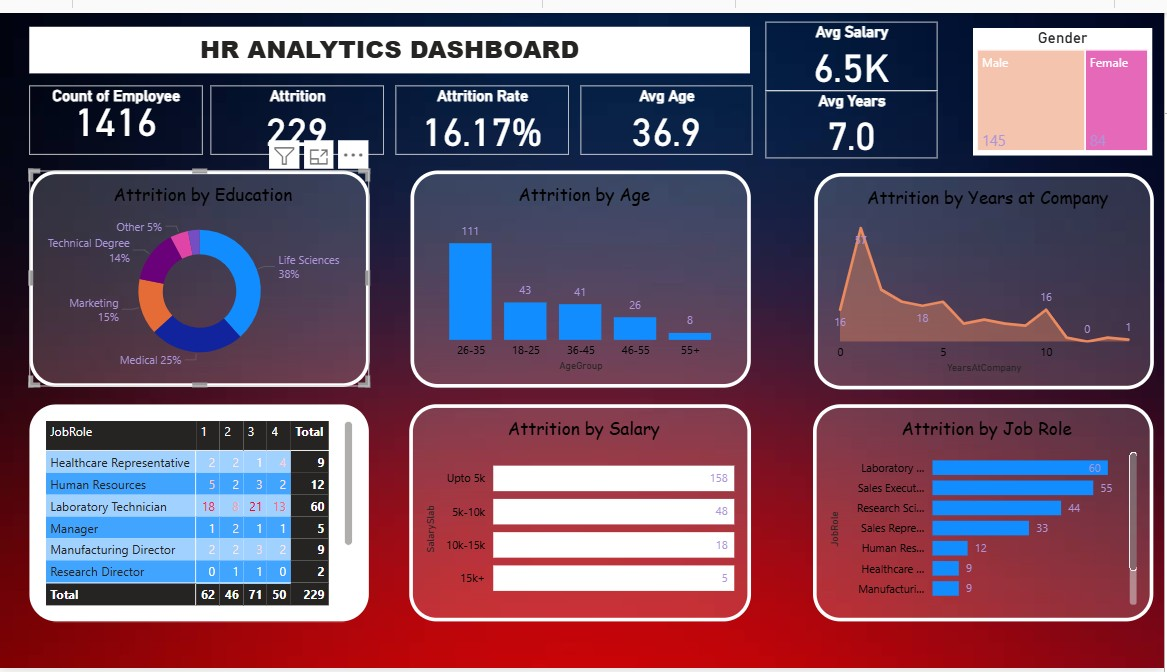

Layout of this report page (visuals, bound fields, positions):
{"tool":"powerbi","page":{"name":"Page 1","canvas":[1280,720],"ordinal":0},"visuals":[{"type":"card","title":"Count of Employee","fields":{"Values":["CountNonNull(HR_Analytics.EmpID)"]},"box":[34.3,80,190,75.7],"z":0},{"type":"card","title":"Attrition","fields":{"Values":["Sum(HR_Analytics.AttritionCount)"]},"box":[232.9,80,190,75.7],"z":1000},{"type":"card","title":"Attrition Rate","fields":{"Values":["HR_Analytics.AttritionRate"]},"box":[435.7,80,190,75.7],"z":2000},{"type":"card","title":"Avg Age","fields":{"Values":["Avg(HR_Analytics.Age)"]},"box":[640,80,188.6,75.7],"z":3000},{"type":"card","title":"Avg Salary","fields":{"Values":["Avg(HR_Analytics.MonthlyIncome)"]},"box":[842.9,10,188.6,75.7],"z":4000},{"type":"card","title":"Avg Years","fields":{"Values":["Avg(HR_Analytics.YearsAtCompany)"]},"box":[842.9,85.7,188.6,74.3],"z":5000},{"type":"donutChart","title":"Attrition by Education","fields":{"Category":["HR_Analytics.EducationField"],"Y":["Sum(HR_Analytics.AttritionCount)"]},"box":[34.3,173.2,373.2,237.4],"z":6000},{"type":"clusteredColumnChart","title":"Attrition by Age","fields":{"Category":["HR_Analytics.AgeGroup"],"Y":["Sum(HR_Analytics.AttritionCount)"]},"box":[453.3,173.3,373.3,238.3],"z":7000},{"type":"pivotTable","fields":{"Rows":["HR_Analytics.JobRole"],"Columns":["HR_Analytics.JobSatisfaction"],"Values":["Sum(HR_Analytics.AttritionCount)"]},"box":[34.3,430,372.9,238.6],"z":8000},{"type":"barChart","title":"Attrition by Salary","fields":{"Category":["HR_Analytics.SalarySlab"],"Y":["Sum(HR_Analytics.AttritionCount)"]},"box":[451.7,430,375,238.3],"z":9000},{"type":"barChart","title":"Attrition by Job Role","fields":{"Category":["HR_Analytics.JobRole"],"Y":["Sum(HR_Analytics.AttritionCount)"]},"box":[895,430,373.3,238.3],"z":10000},{"type":"areaChart","title":"Attrition by Years at Company","fields":{"Category":["HR_Analytics.YearsAtCompany"],"Y":["Sum(HR_Analytics.AttritionCount)"]},"box":[896.2,175,372.5,237.5],"z":11000},{"type":"treemap","title":"Gender","fields":{"Values":["Sum(HR_Analytics.AttritionCount)"],"Group":["HR_Analytics.Gender"]},"box":[1071,16,197,140],"z":12000},{"type":"textbox","box":[34.3,15.7,791.4,51.4],"z":13000}]}

Visuals, with their boxes in screenshot pixels (x1, y1, x2, y2), scaled from the page's 1280x720 canvas onto the 1167x672 screenshot:
"Count of Employee" card: 31, 75, 204, 145
"Attrition" card: 212, 75, 386, 145
"Attrition Rate" card: 397, 75, 570, 145
"Avg Age" card: 584, 75, 755, 145
"Avg Salary" card: 768, 9, 940, 80
"Avg Years" card: 768, 80, 940, 149
"Attrition by Education" donutChart: 31, 162, 372, 383
"Attrition by Age" clusteredColumnChart: 413, 162, 754, 384
pivotTable - HR_Analytics.JobRole x HR_Analytics.JobSatisfaction: 31, 401, 371, 624
"Attrition by Salary" barChart: 412, 401, 754, 624
"Attrition by Job Role" barChart: 816, 401, 1156, 624
"Attrition by Years at Company" areaChart: 817, 163, 1157, 385
"Gender" treemap: 976, 15, 1156, 146
textbox: 31, 15, 753, 63
